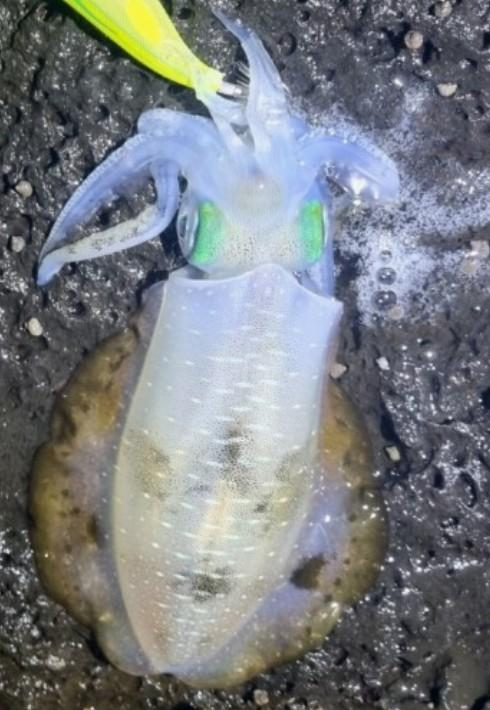Cephalopod: (29, 12, 397, 688)
